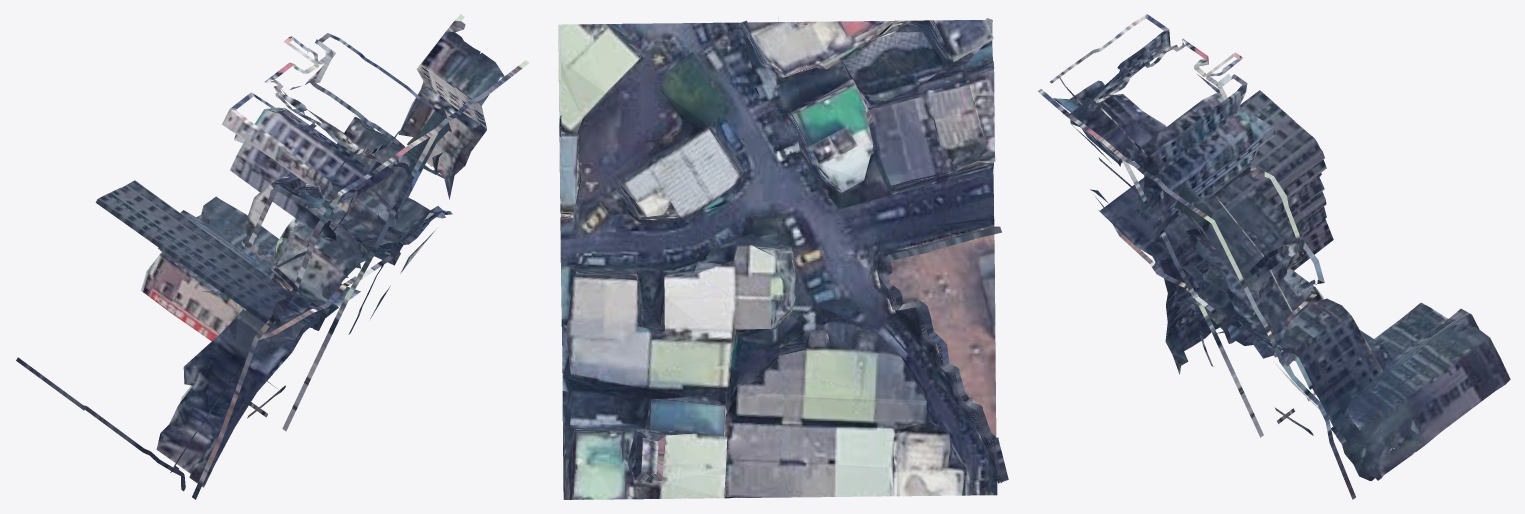
3 renders of one model, left to right at view 1: azimuth 30°, elevation 25°; view 2: azimuth 150°, elevation 25°; view 3: azimuth 270°, elevation 25°, orthographic. The views are drawn at different scales.
Size of the model in its own units: 96.96 by 82.84 by 93.98.
Materials: 2 (2 with a texture image).
